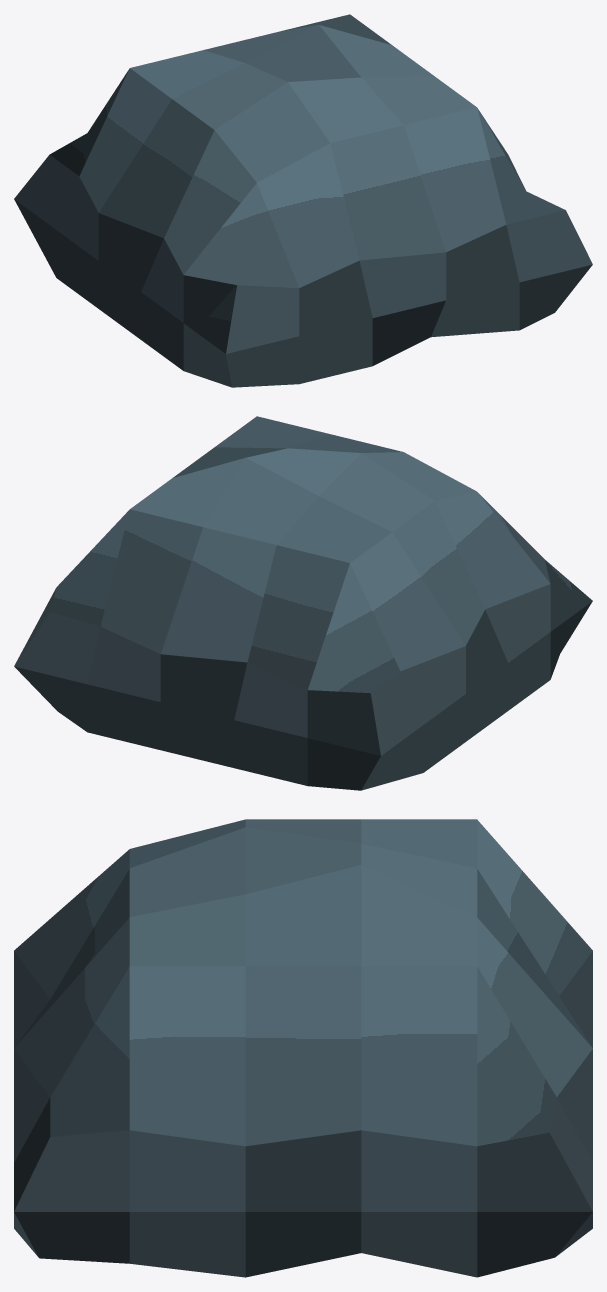
The model's file is Rock.gltf.
The picture shows the model from 3 angles, top to bottom: view 1: azimuth 30°, elevation 25°; view 2: azimuth 150°, elevation 25°; view 3: azimuth 270°, elevation 25°; orthographic projection. The views are drawn at different scales.
Visible parts, largest first — view 1: rock; view 2: rock; view 3: rock.
Part boxes in pixels (x1=…): rock: x1=14, y1=14, x2=592, y2=387; rock: x1=14, y1=416, x2=592, y2=790; rock: x1=14, y1=819, x2=592, y2=1277.
Size of the model in its own units: 0.5 by 0.3 by 0.5.
Materials: 1 (1 with a texture image).
